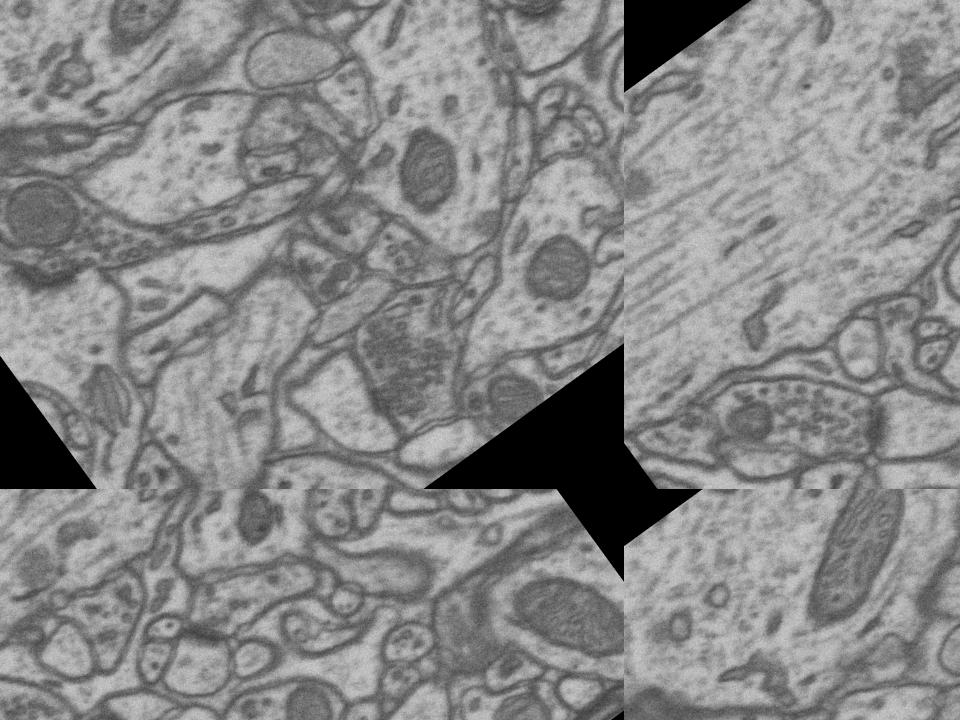mitochondria: (743, 489, 960, 646), (491, 531, 624, 700), (46, 0, 271, 68), (365, 112, 484, 232), (0, 148, 106, 278), (496, 214, 614, 330), (694, 370, 800, 476), (464, 347, 553, 434), (624, 100, 660, 278), (211, 489, 295, 556), (470, 666, 572, 720), (258, 665, 356, 720), (700, 489, 862, 517)
